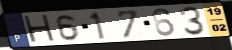1: (87, 11, 107, 41)
3: (179, 6, 207, 36)
6: (55, 13, 82, 42), (152, 7, 177, 38)
7: (116, 9, 141, 40)
H: (21, 14, 58, 45)
